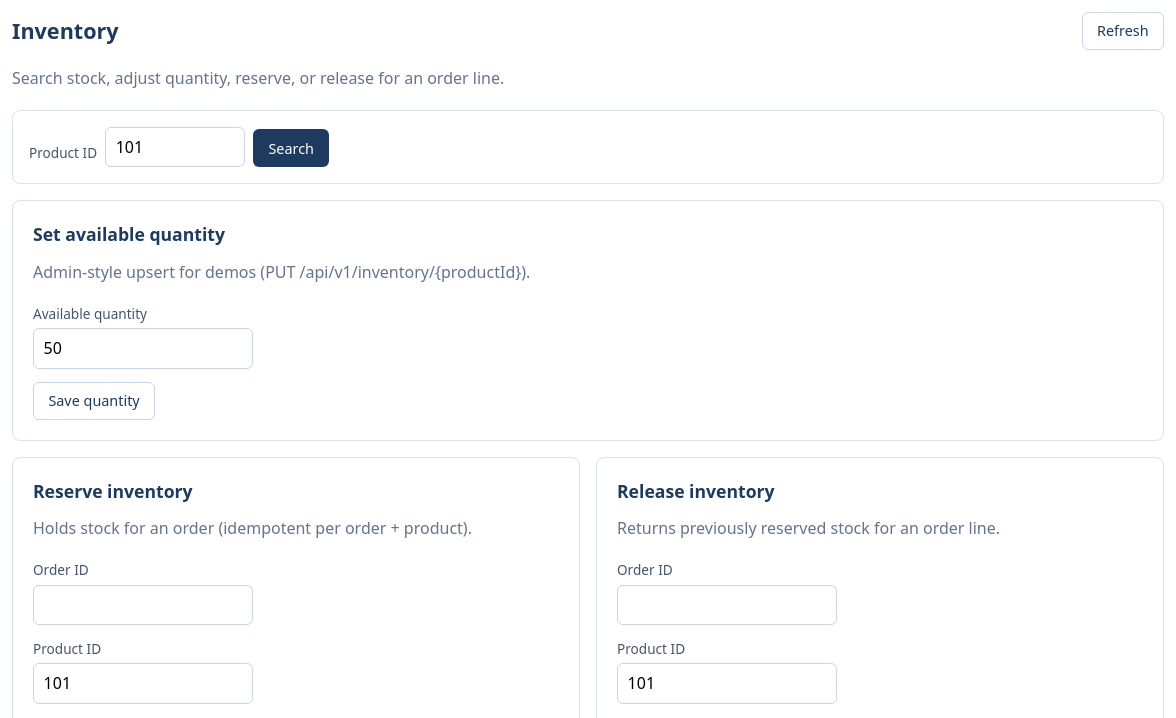
Scenario: inventory search shows api error
Click the button "Search". click: (291, 148)
box: [253,129,329,167]
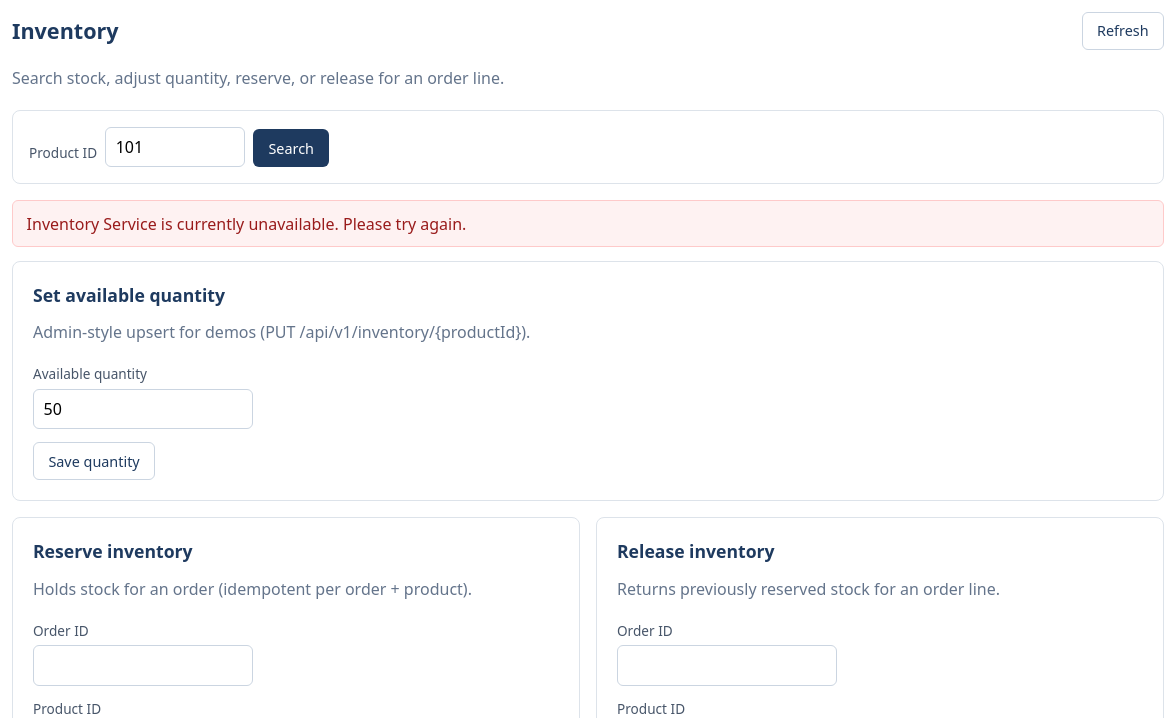
Check: the message shows "Inventory Service is currently unavailable", box [27,213,466,235]
